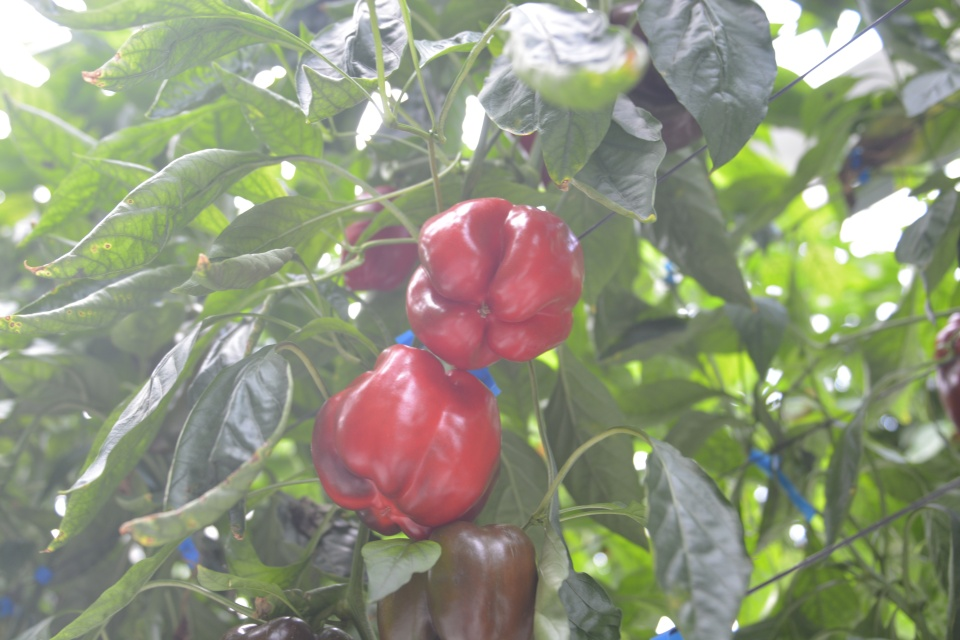fruit: (308, 348, 504, 542), (404, 194, 585, 372), (373, 520, 540, 640), (342, 183, 420, 291)
